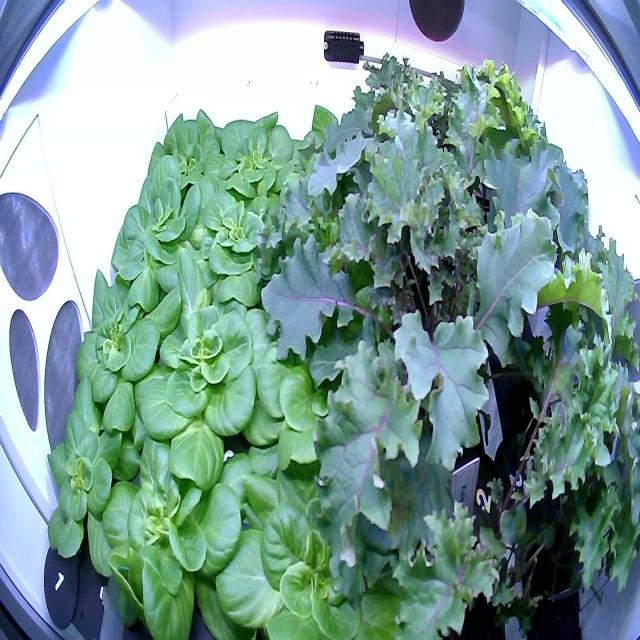young: (210, 423, 428, 640), (115, 244, 290, 494), (86, 426, 256, 640), (238, 279, 410, 473), (66, 238, 191, 452), (38, 370, 155, 582), (105, 152, 226, 313), (174, 172, 303, 309), (212, 94, 312, 222), (138, 100, 242, 222)
